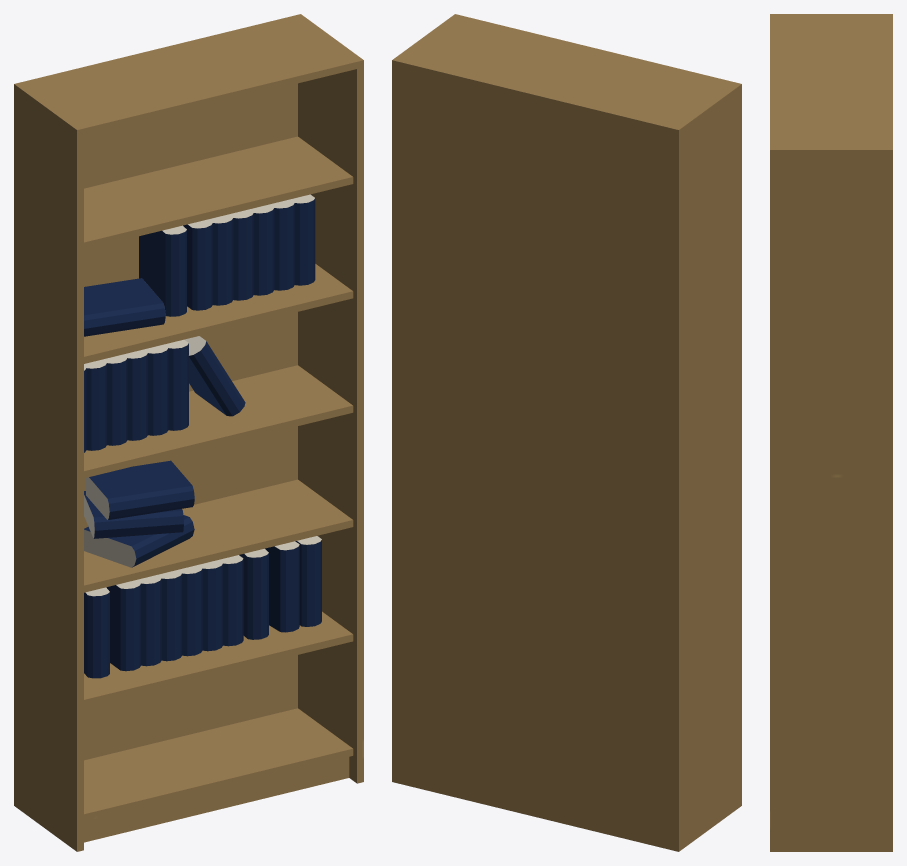
File: Bookshelf.fbx
The picture shows the model from 3 angles, left to right: view 1: azimuth 30°, elevation 25°; view 2: azimuth 150°, elevation 25°; view 3: azimuth 270°, elevation 25°; orthographic projection. The views are drawn at different scales.
Parts seen in each view (by area): view 1: Shelf, BookStack2, BookStack1, BookStack0, BookStack3; view 2: Shelf; view 3: Shelf.
Boxes of the visible parts, x1=… form: Shelf: x1=14, y1=14, x2=363, y2=851; BookStack2: x1=84, y1=536, x2=321, y2=678; BookStack1: x1=84, y1=194, x2=315, y2=336; BookStack0: x1=84, y1=336, x2=245, y2=452; BookStack3: x1=84, y1=460, x2=194, y2=567; Shelf: x1=392, y1=14, x2=741, y2=851; Shelf: x1=770, y1=14, x2=892, y2=851.
Size of the model in its own units: 84 by 202 by 32.
